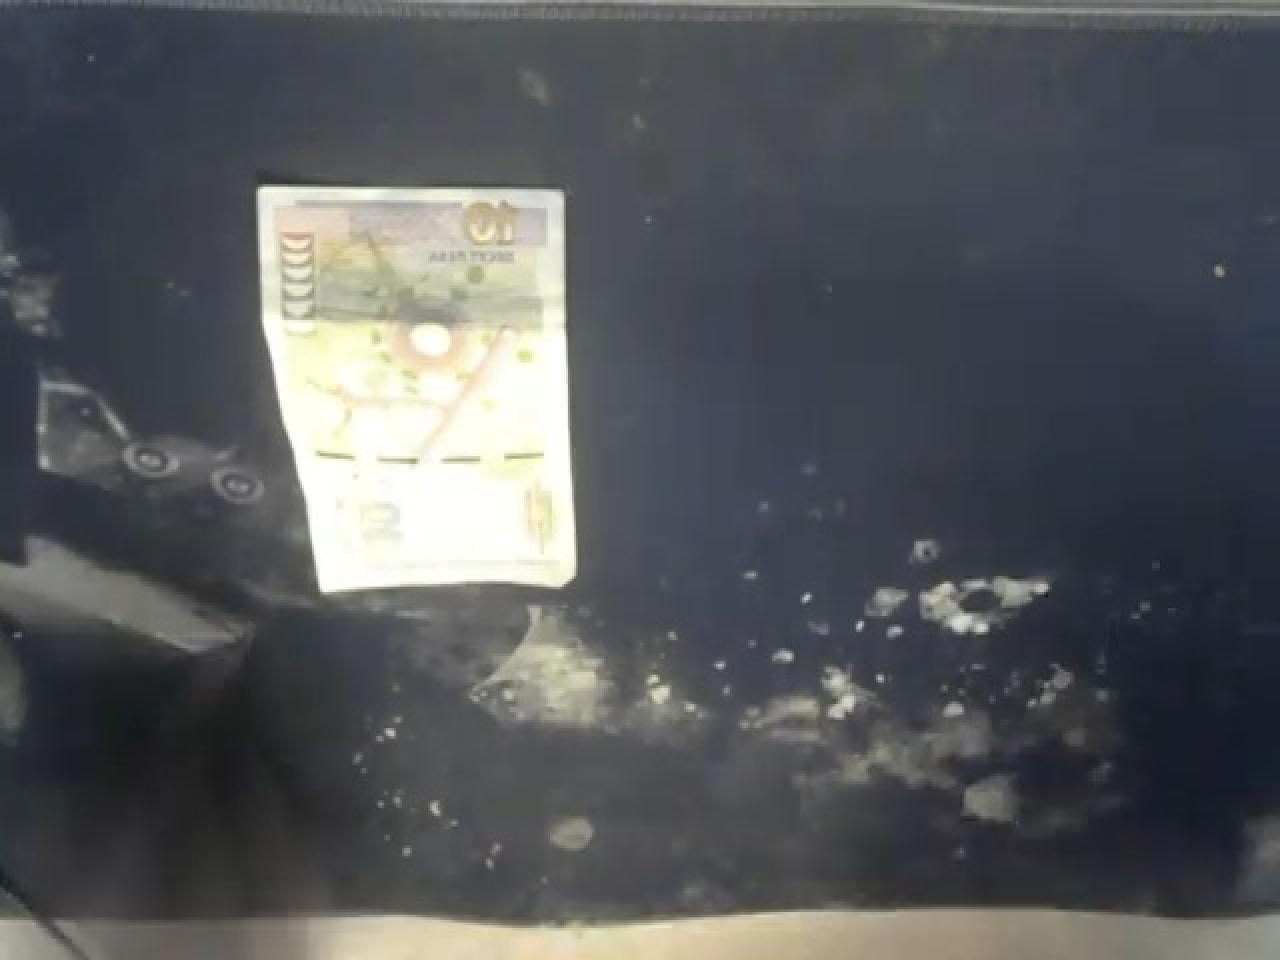10leva: (254, 176, 578, 592)
